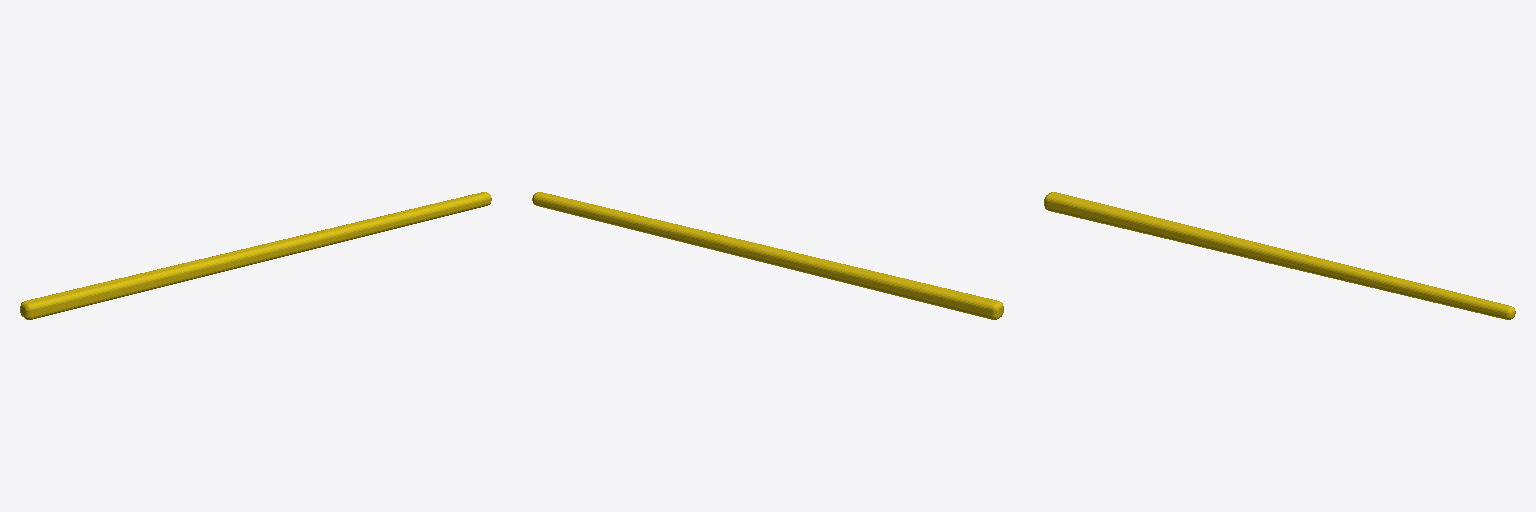
robot.urdf — cb_chopstick64_d65:
<?xml version="1.0"?>
<!-- ContactBench chopstick, cross-section x1.0015 (diameter 6.5 mm), collision = 64-vertex hull (one10_stick64.py). Generated by FoundationTouch tools/contactbench/make_contactbench_assets.py -->
<robot name="cb_chopstick64_d65">
  <material name="c"><color rgba="0.85 0.75 0.10 1.0"/></material>
  <link name="object">
    <visual><origin xyz="0 0 0" rpy="0 0 0"/><geometry><mesh filename="chopstick64_d65.obj" scale="1 1 1"/></geometry><material name="c"/></visual>
    <collision><origin xyz="0 0 0" rpy="0 0 0"/><geometry><mesh filename="coll_00.obj" scale="1 1 1"/></geometry></collision>
    <inertial><mass value="0.00367229"/><origin xyz="0 0 0" rpy="0 0 0"/><inertia ixx="3.593839e-07" ixy="3.855650e-13" ixz="4.352885e-14" iyy="1.185014e-05" iyz="2.852339e-16" izz="1.185014e-05"/></inertial>
  </link>
</robot>

--- What the picture shows (computed from the rendered views, not written in the file) ---
3 views of the same robot in one strip: view 1: azimuth 30°, elevation 25°; view 2: azimuth 150°, elevation 25°; view 3: azimuth 330°, elevation 25° (orthographic).
Model cb_chopstick64_d65 with 1 links and 0 joints (none), rooted at object, posed every joint at zero.
Links seen in each view (by area): view 1: object; view 2: object; view 3: object.
Link boxes in pixels (x1,y1,x2,y2): object: (20,192,491,319); object: (532,192,1003,319); object: (1044,192,1515,319).
Size in the robot's own frame: 0.2 by 0.0065 by 0.0065 metres.
Meshes: 1 distinct files referenced, 1 mesh visuals loaded (1 OBJ).
